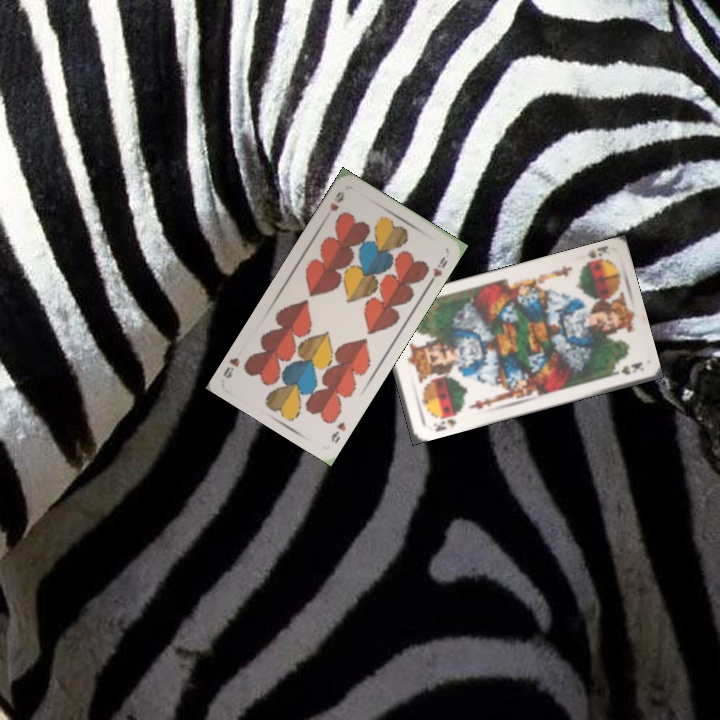H9: (327, 418, 348, 446), (326, 187, 347, 214)
SK: (429, 415, 459, 434), (583, 242, 611, 261)
